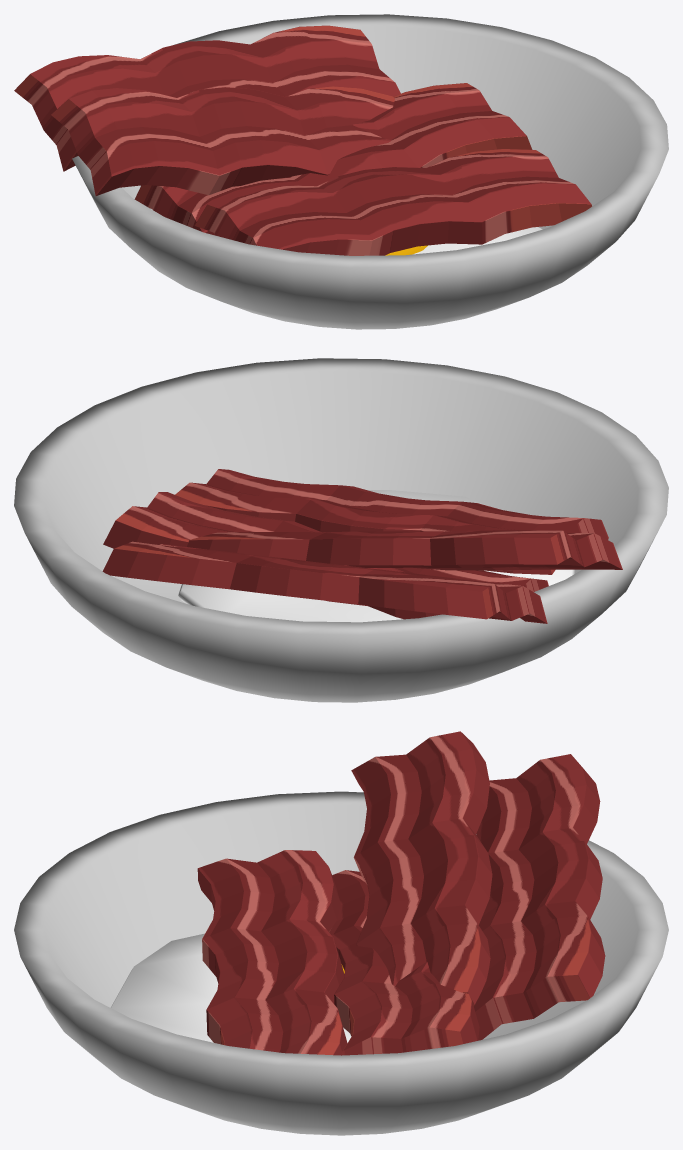
The model's file is EggandBaconPlate.fbx.
The picture shows the model from 3 angles, top to bottom: view 1: azimuth 30°, elevation 25°; view 2: azimuth 150°, elevation 25°; view 3: azimuth 270°, elevation 25°; orthographic projection. The views are drawn at different scales.
Parts seen in each view (by area): view 1: Plate.001, EggandBacon.002, SimpleBacon, Egg; view 2: Plate.001, EggandBacon.002, SimpleBacon, Egg; view 3: Plate.001, EggandBacon.002, SimpleBacon, Egg.
Part boxes in pixels (left/top/right/bottom): Plate.001: left=72, top=14, right=668, bottom=329; EggandBacon.002: left=14, top=25, right=400, bottom=195; SimpleBacon: left=134, top=83, right=591, bottom=255; Egg: left=385, top=227, right=542, bottom=255; Plate.001: left=14, top=358, right=668, bottom=702; EggandBacon.002: left=102, top=530, right=622, bottom=623; SimpleBacon: left=103, top=469, right=608, bottom=619; Egg: left=178, top=490, right=575, bottom=622; Plate.001: left=14, top=791, right=668, bottom=1135; EggandBacon.002: left=351, top=731, right=605, bottom=1040; SimpleBacon: left=197, top=850, right=479, bottom=1055; Egg: left=111, top=933, right=351, bottom=1042.
Size of the model in its own units: 32.17 by 9.92 by 31.83.
